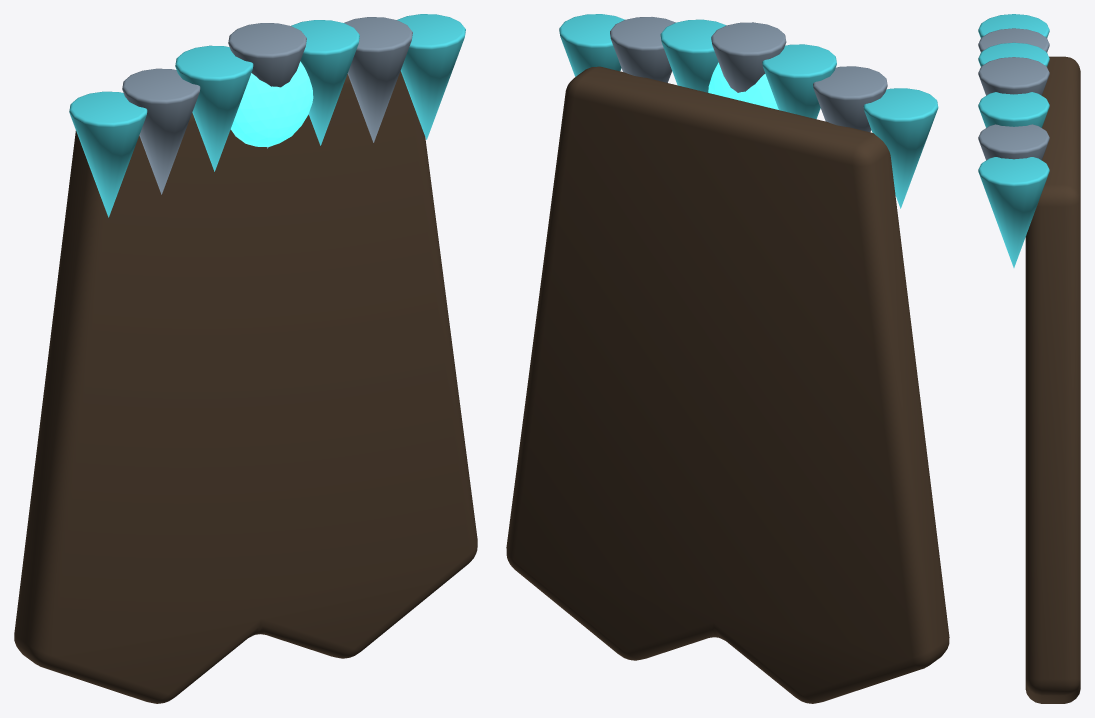
Rendered from cloak_v7.glb.
3 renders of one model, left to right at view 1: azimuth 30°, elevation 25°; view 2: azimuth 150°, elevation 25°; view 3: azimuth 270°, elevation 25°, orthographic. The views are drawn at different scales.
Visible parts, largest first — view 1: FUR_CAPE_SECONDARY, FUR_TUFT_ACCENT, FUR_TUFT_ACCENT.001, FUR_TUFT_PRIMARY, FUR_TUFT_PRIMARY.002, FUR_TUFT_ACCENT.003, FUR_CLASP_EMISSIVE, FUR_TUFT_ACCENT.002, FUR_TUFT_PRIMARY.001; view 2: FUR_CAPE_SECONDARY, FUR_TUFT_ACCENT, FUR_TUFT_ACCENT.001, FUR_TUFT_PRIMARY.001, FUR_TUFT_PRIMARY, FUR_TUFT_ACCENT.002, FUR_TUFT_PRIMARY.002, FUR_TUFT_ACCENT.003, FUR_CLASP_EMISSIVE; view 3: FUR_CAPE_SECONDARY, FUR_TUFT_ACCENT.003, FUR_TUFT_PRIMARY.001, FUR_TUFT_PRIMARY.002, FUR_TUFT_ACCENT.002, FUR_TUFT_ACCENT.001, FUR_TUFT_PRIMARY, FUR_TUFT_ACCENT.
Part boxes in pixels (x1,y1,x2,y2): FUR_CAPE_SECONDARY: (14, 71, 477, 703); FUR_TUFT_ACCENT: (69, 91, 147, 217); FUR_TUFT_ACCENT.001: (175, 45, 253, 171); FUR_TUFT_PRIMARY: (122, 68, 200, 194); FUR_TUFT_PRIMARY.002: (344, 17, 412, 142); FUR_TUFT_ACCENT.003: (397, 14, 465, 139); FUR_CLASP_EMISSIVE: (230, 61, 313, 147); FUR_TUFT_ACCENT.002: (291, 20, 359, 145); FUR_TUFT_PRIMARY.001: (228, 23, 306, 148); FUR_CAPE_SECONDARY: (506, 66, 949, 703); FUR_TUFT_ACCENT: (863, 88, 938, 208); FUR_TUFT_ACCENT.001: (762, 44, 836, 119); FUR_TUFT_PRIMARY.001: (711, 22, 786, 92); FUR_TUFT_PRIMARY: (813, 66, 887, 132); FUR_TUFT_ACCENT.002: (660, 19, 725, 92); FUR_TUFT_PRIMARY.002: (610, 17, 675, 82); FUR_TUFT_ACCENT.003: (559, 14, 624, 76); FUR_CLASP_EMISSIVE: (708, 62, 778, 109); FUR_CAPE_SECONDARY: (1025, 56, 1080, 703); FUR_TUFT_ACCENT.003: (978, 157, 1049, 267); FUR_TUFT_PRIMARY.001: (978, 57, 1049, 95); FUR_TUFT_PRIMARY.002: (978, 124, 1049, 160); FUR_TUFT_ACCENT.002: (978, 92, 1049, 127); FUR_TUFT_ACCENT.001: (978, 42, 1049, 66); FUR_TUFT_PRIMARY: (978, 28, 1049, 52); FUR_TUFT_ACCENT: (978, 14, 1049, 37).
Size of the model in its own units: 2.02 by 2.82 by 0.4453.
